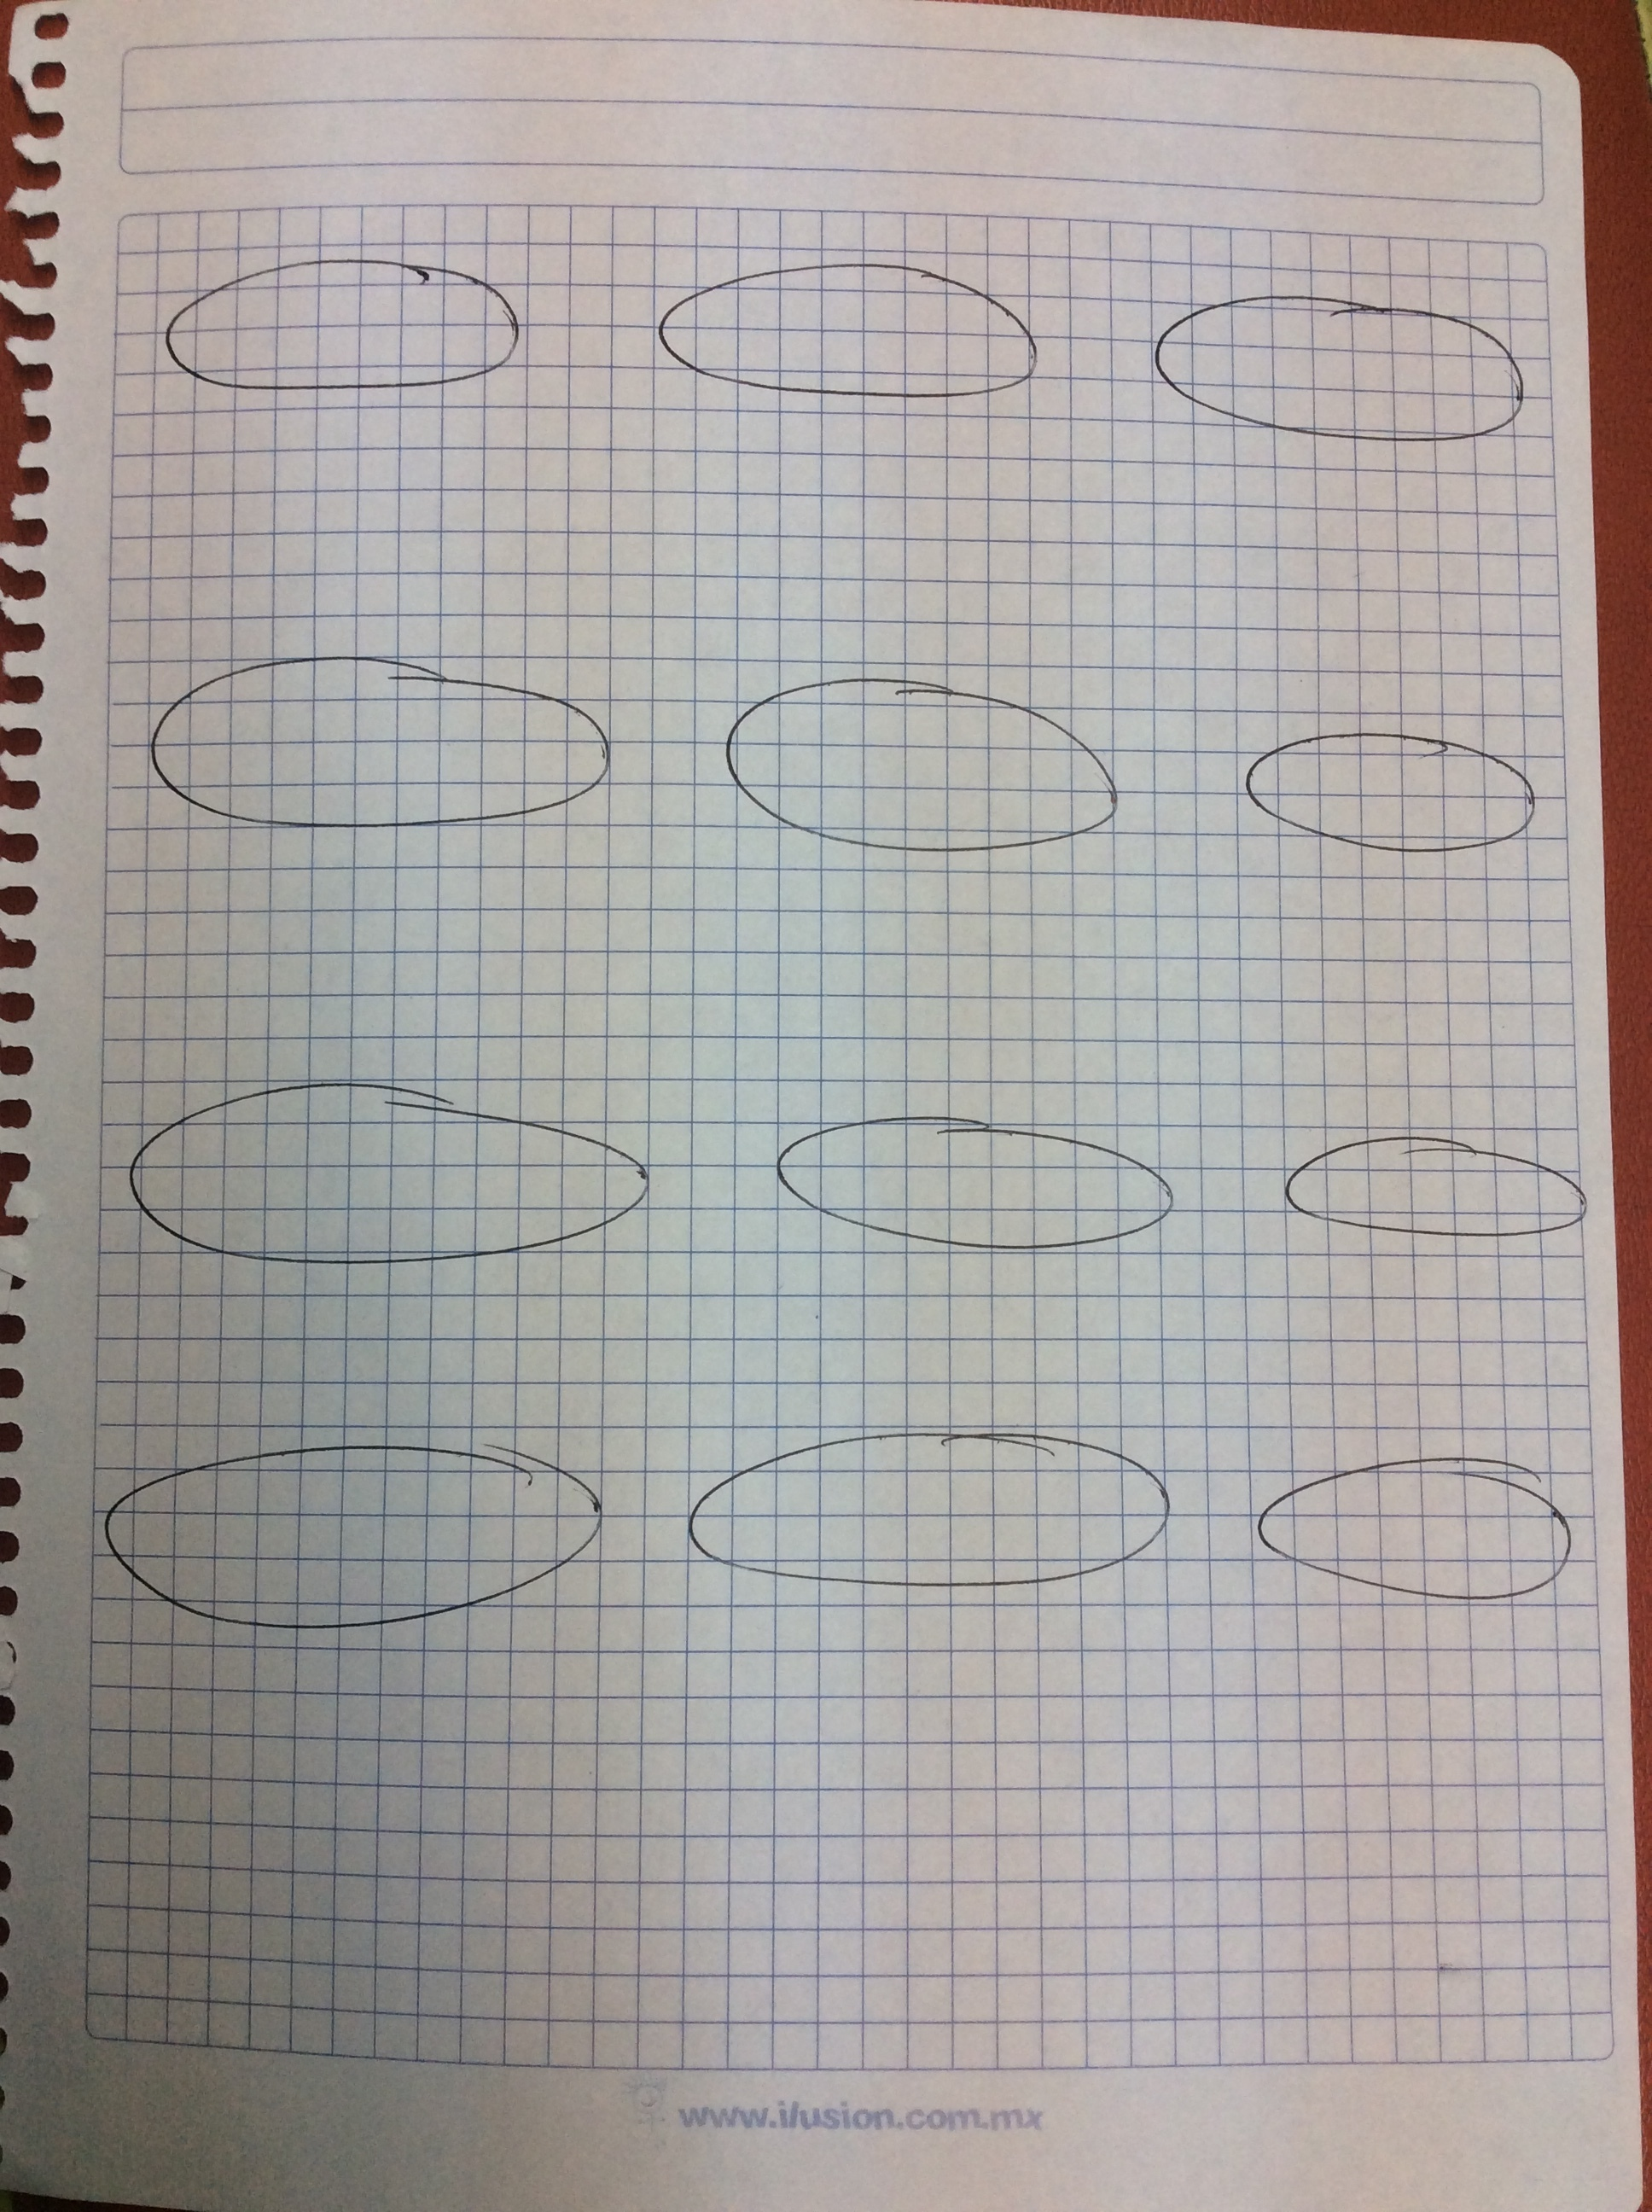start_end: (97, 1044, 677, 1301), (73, 1421, 623, 1669), (135, 611, 640, 857), (673, 1404, 1187, 1622), (1118, 243, 1548, 481), (701, 659, 1145, 878), (760, 1076, 1203, 1277), (135, 226, 538, 434), (633, 232, 1057, 430), (1230, 1421, 1596, 1641), (1216, 692, 1565, 892), (1268, 1093, 1600, 1294)
